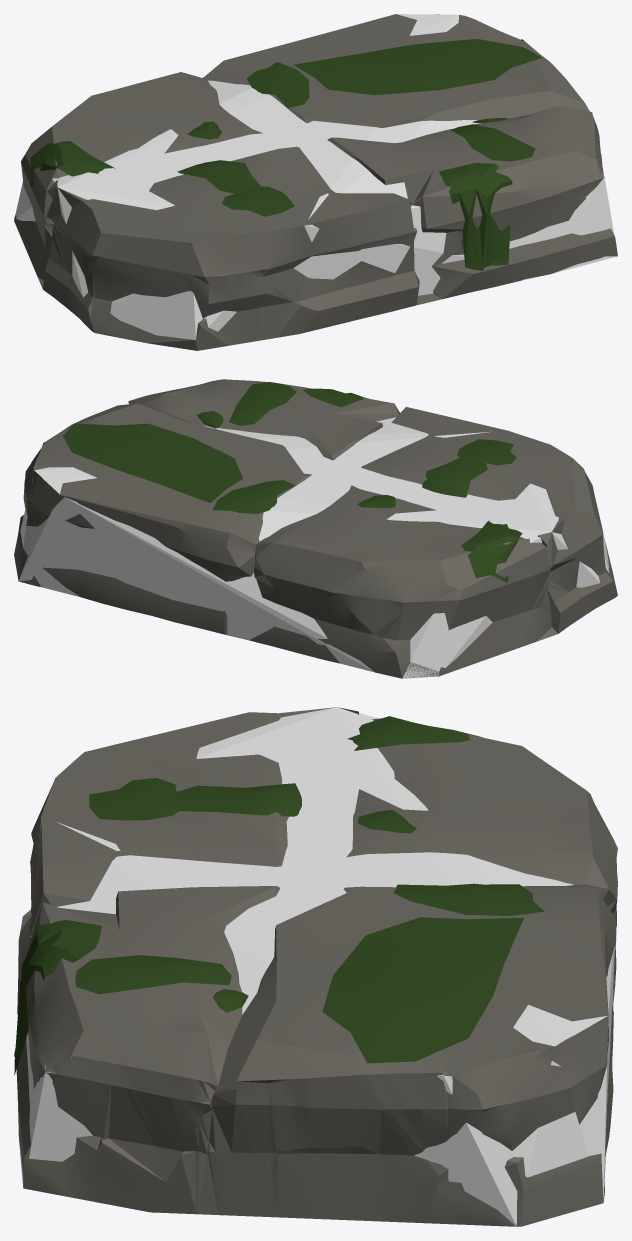
The model's file is Rock_Slab.fbx.
3 renders of one model, top to bottom at view 1: azimuth 30°, elevation 25°; view 2: azimuth 150°, elevation 25°; view 3: azimuth 270°, elevation 25°, orthographic. The views are drawn at different scales.
Parts seen in each view (by area): view 1: Rock_Slab_Body, COL_Rock_Slab; view 2: Rock_Slab_Body, COL_Rock_Slab; view 3: Rock_Slab_Body, COL_Rock_Slab.
Part boxes in pixels (<box>): Rock_Slab_Body: <box>14,14,617,350</box>; COL_Rock_Slab: <box>15,14,617,339</box>; Rock_Slab_Body: <box>14,379,617,678</box>; COL_Rock_Slab: <box>19,417,609,678</box>; Rock_Slab_Body: <box>14,707,617,1226</box>; COL_Rock_Slab: <box>19,707,616,1226</box>.
Size of what is drawn, in the model's own units: 3 by 0.6017 by 2.01.
